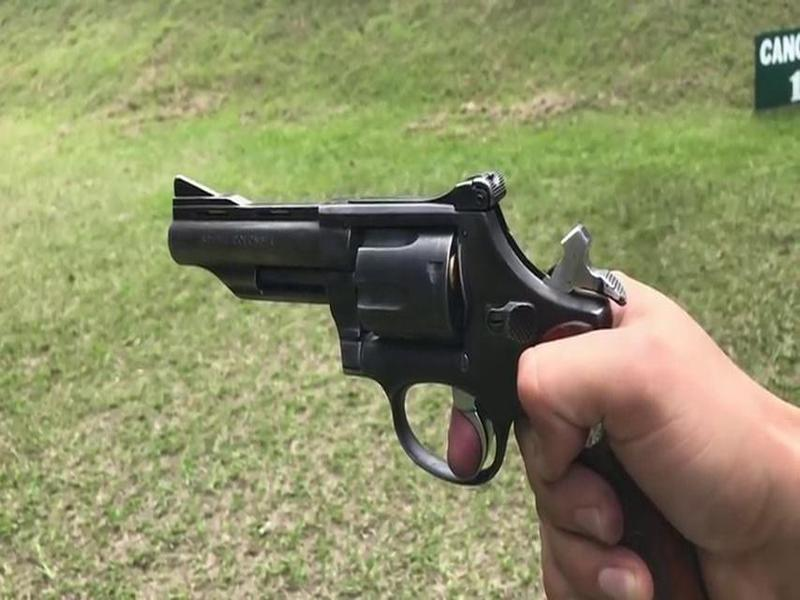Revolver: (157, 158, 635, 502)
